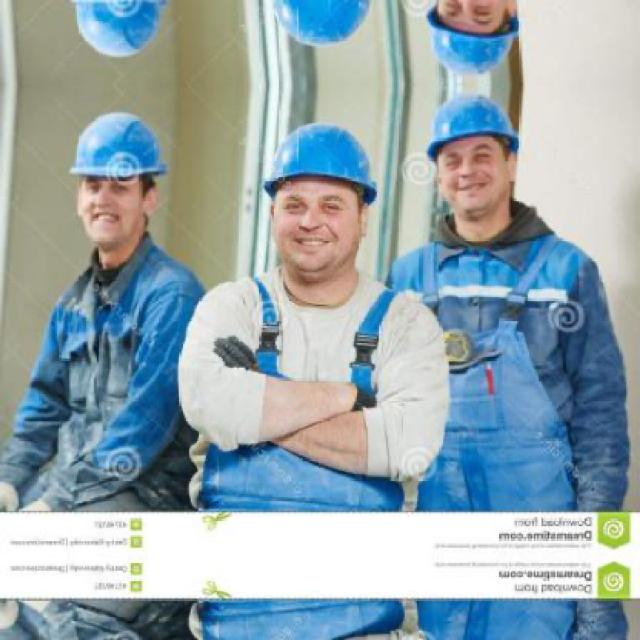con casco: (254, 120, 393, 332), (420, 91, 562, 266), (68, 108, 143, 323)
